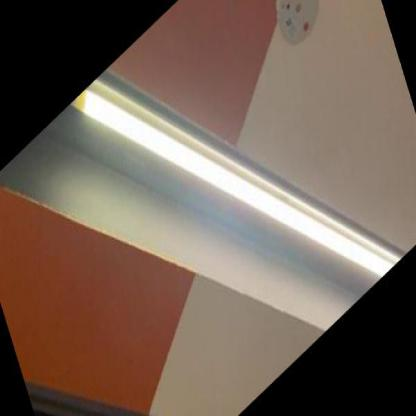light_on: (38, 0, 416, 415)
